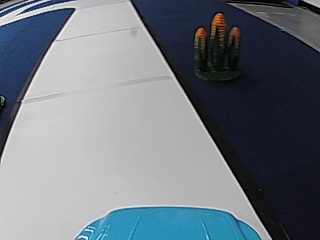corn: (191, 11, 242, 83)
